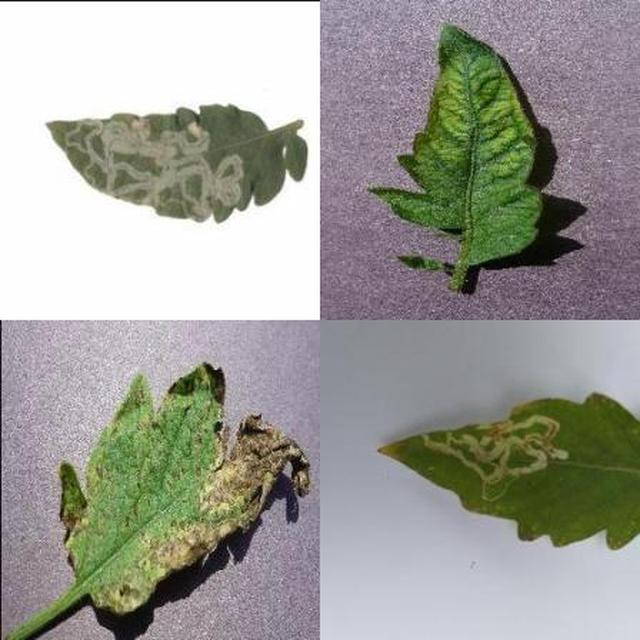Leaf Miner: (253, 176, 640, 640)
